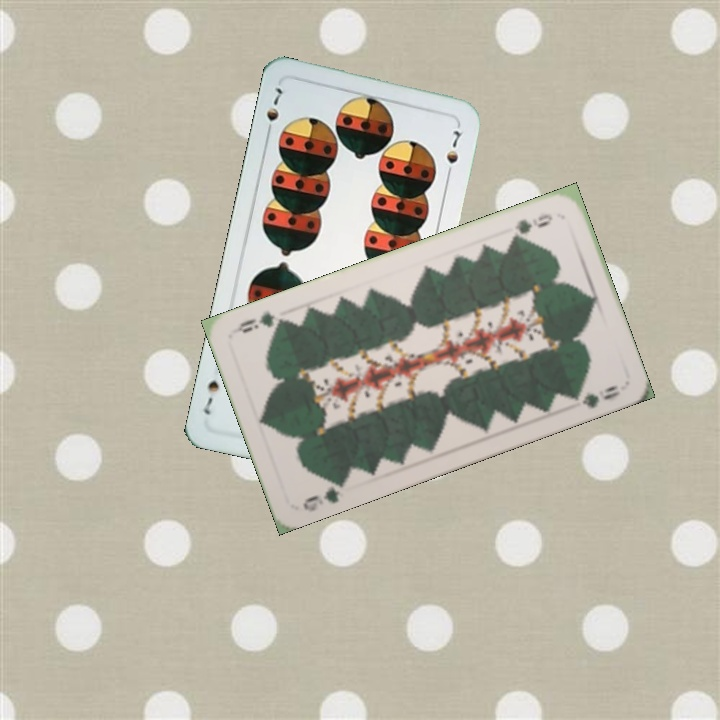G9: (298, 474, 349, 515), (506, 209, 555, 243)
S7: (262, 83, 285, 139)
